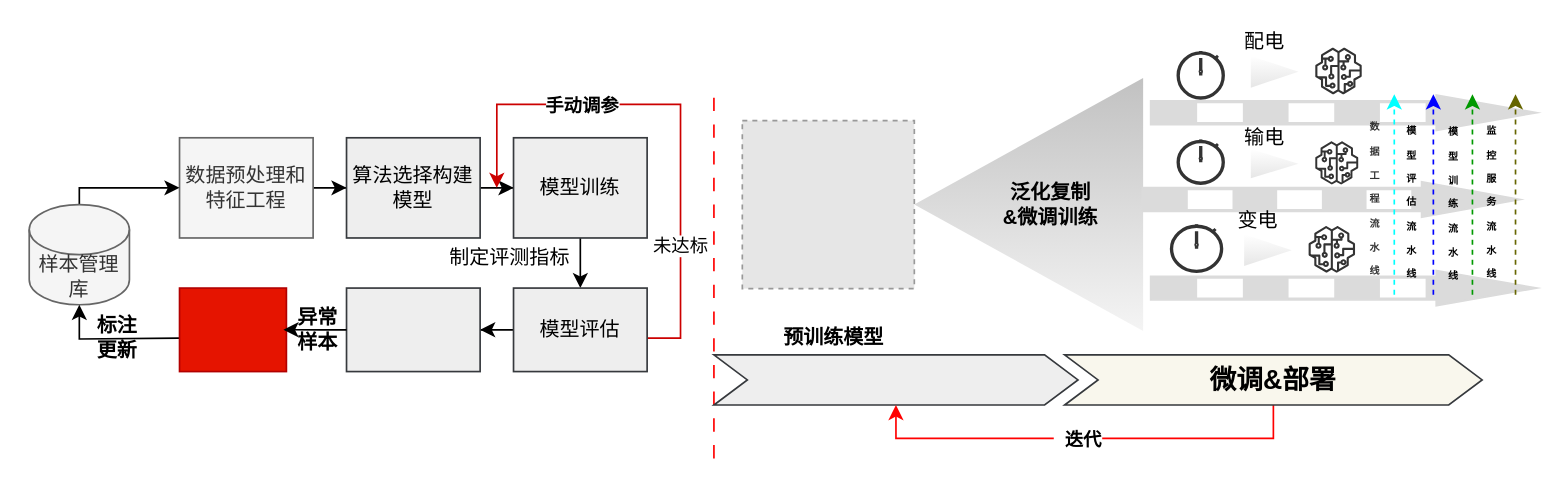
The diagram is 1563 pixels wide and 489 high, and some of its shapes have lost their labels. Grey dashed boxes stand in for pictures. The shapes that lost their labels are listed below. From the top down, each one's centre as x and y in pixels, then its label:
(x=232, y=329): 人工复核
(x=412, y=329): 部署模型 应用推理
(x=895, y=379): 预训练
